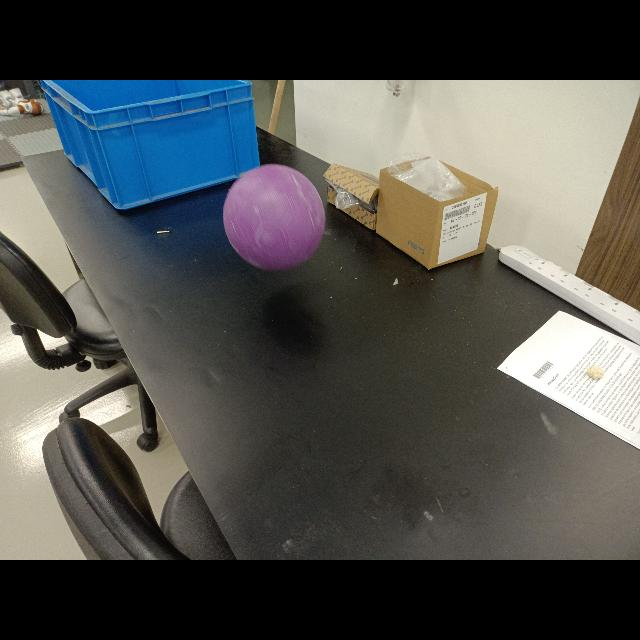P: (224, 164, 324, 268)
